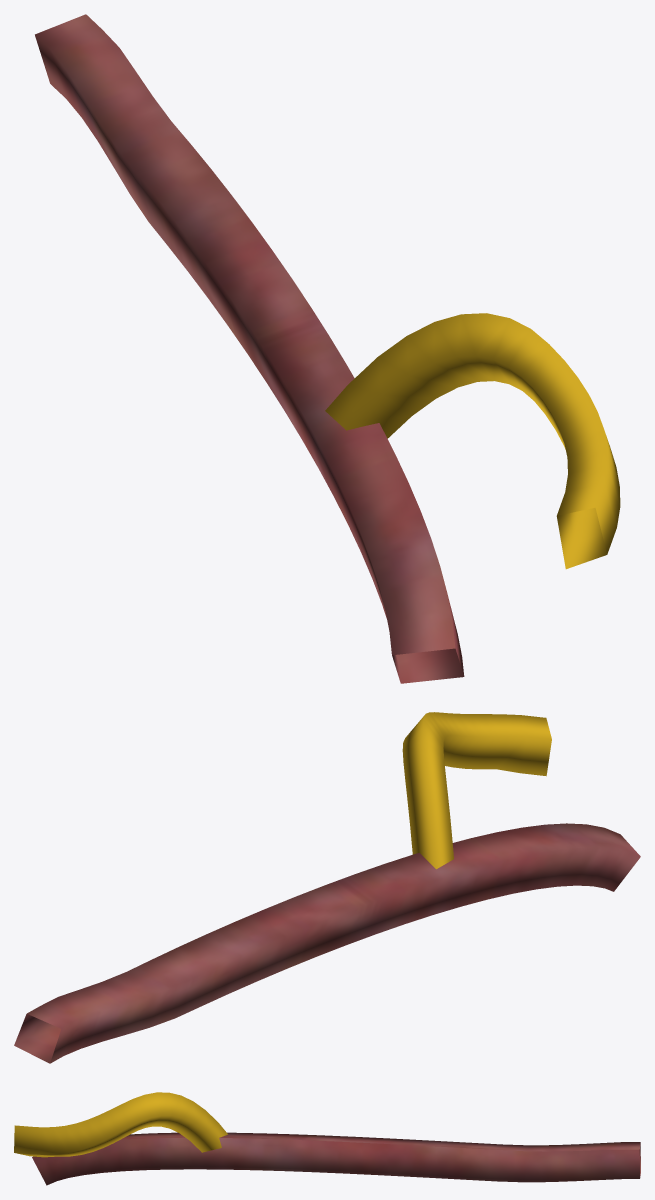
File: Common-duct_Artery.obj
3 views of the same model, one above another, from view 1: azimuth 30°, elevation 25°; view 2: azimuth 150°, elevation 25°; view 3: azimuth 270°, elevation 25° (orthographic). The views are drawn at different scales.
Visible parts, largest first — view 1: Common-duct_Artery_CUBezierCurve.014; view 2: Common-duct_Artery_CUBezierCurve.014; view 3: Common-duct_Artery_CUBezierCurve.014.
Boxes of the visible parts, x1,y1,x2,y2 form: Common-duct_Artery_CUBezierCurve.014: (35, 14, 620, 683); Common-duct_Artery_CUBezierCurve.014: (14, 712, 640, 1063); Common-duct_Artery_CUBezierCurve.014: (14, 1092, 640, 1185).
Bounding box in the file's own units: 1.17 × 0.9623 × 4.21.
